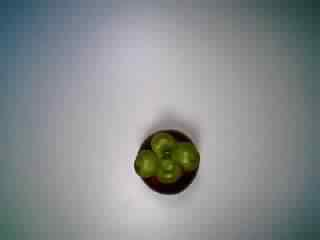mangosteen: (130, 123, 200, 197)
